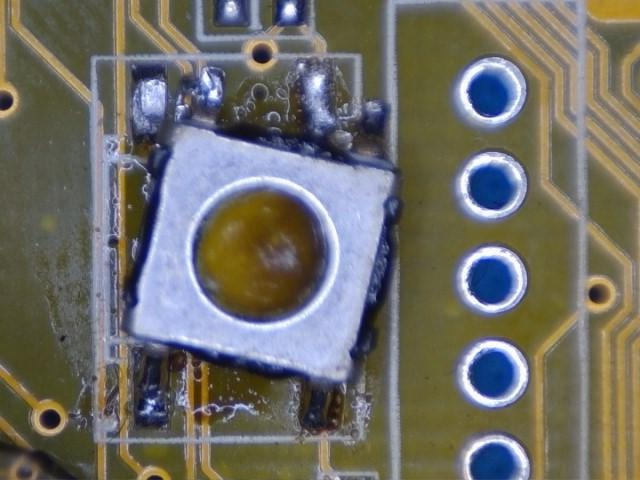pcb_defect: (121, 59, 402, 433)
